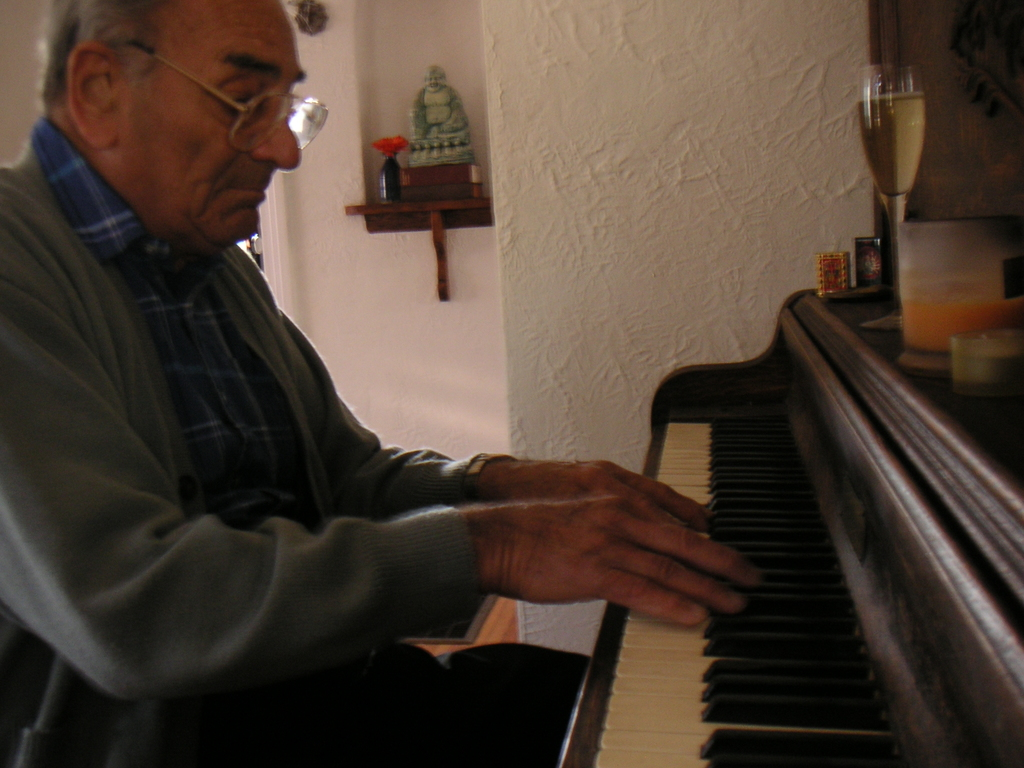face: (128, 0, 310, 246)
